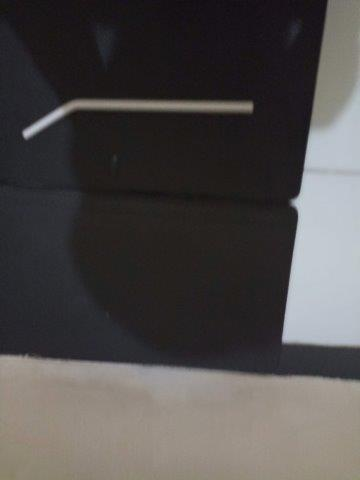sedotan: (22, 98, 254, 140)
